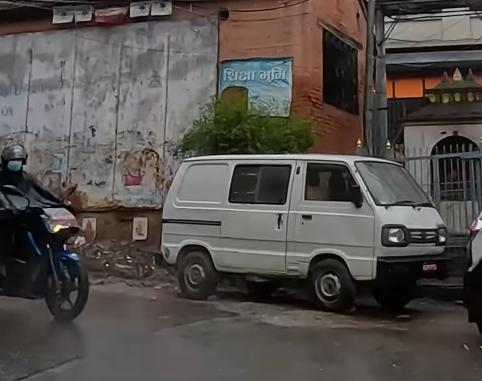bike: (0, 183, 91, 323)
van: (157, 143, 449, 327)
